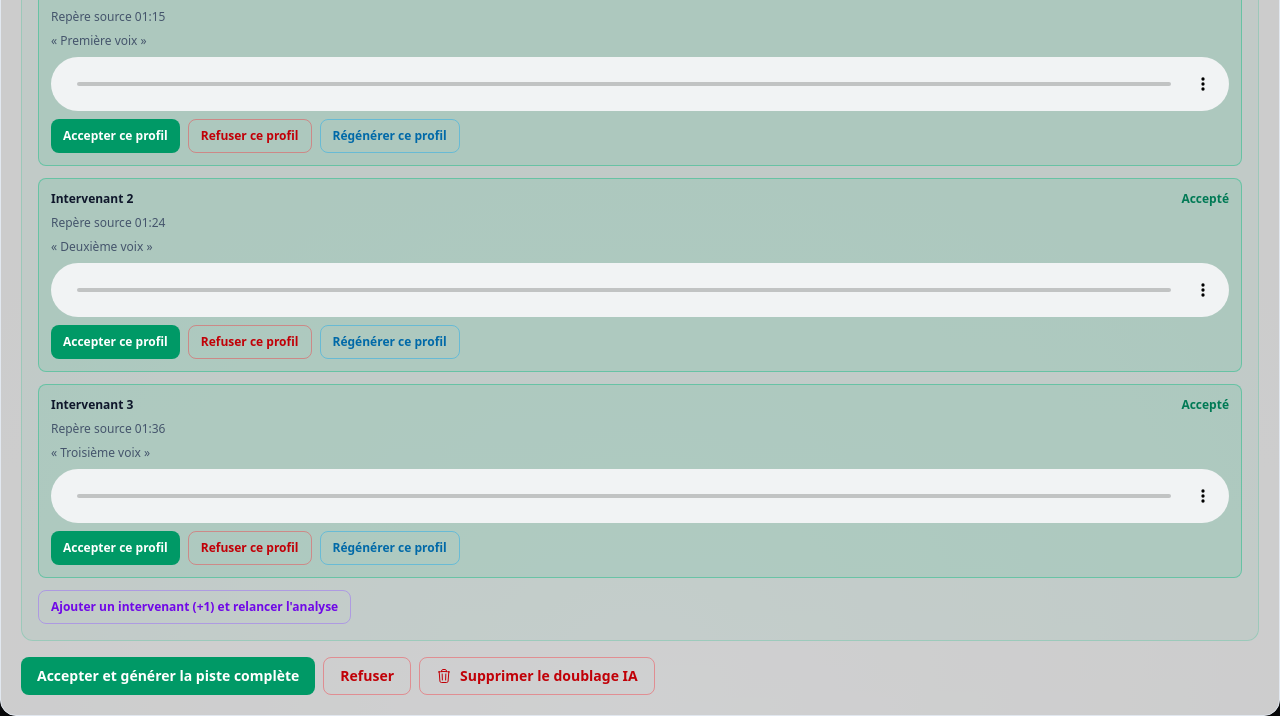
it: demande une confirmation explicite avant de supprimer un doublage IA
The image size is (1280, 716).
(page scrolled)
Click the button "Supprimer le doublage IA". click: (537, 676)
box: [419,657,655,695]
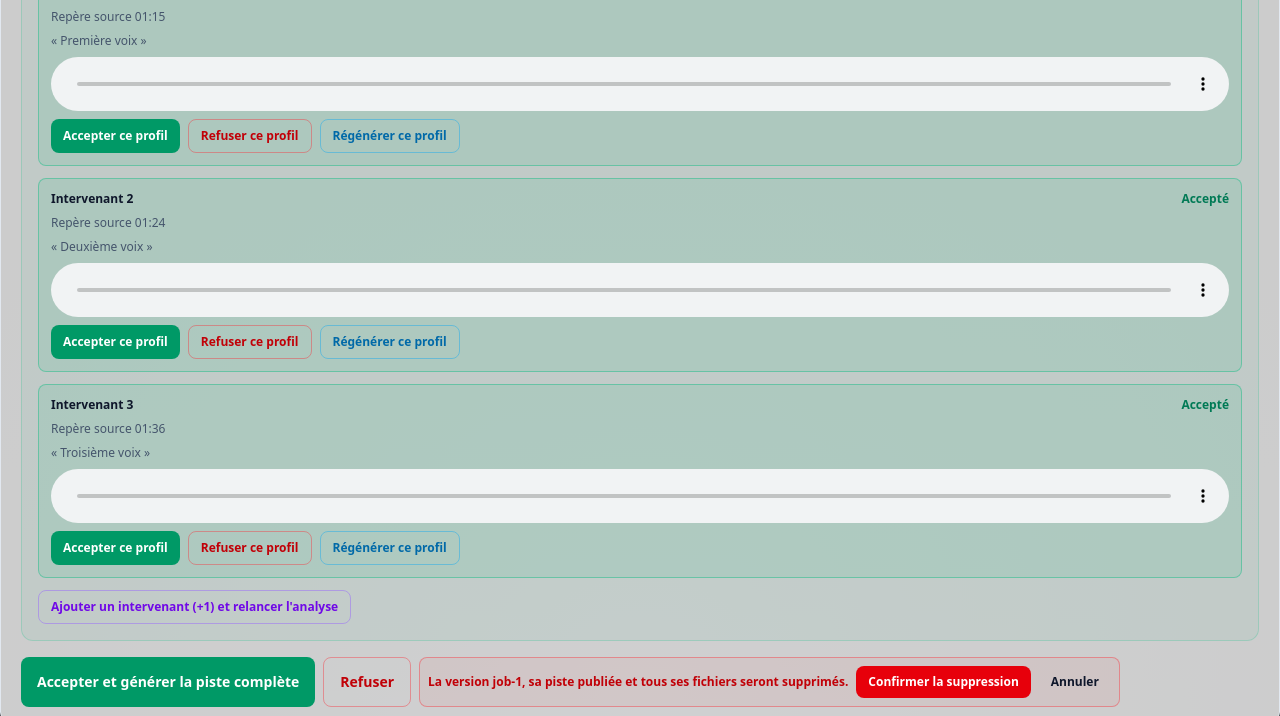
Click the button "Confirmer la suppression". click: (944, 682)
box: [856,666,1031,698]
(page scrolled)
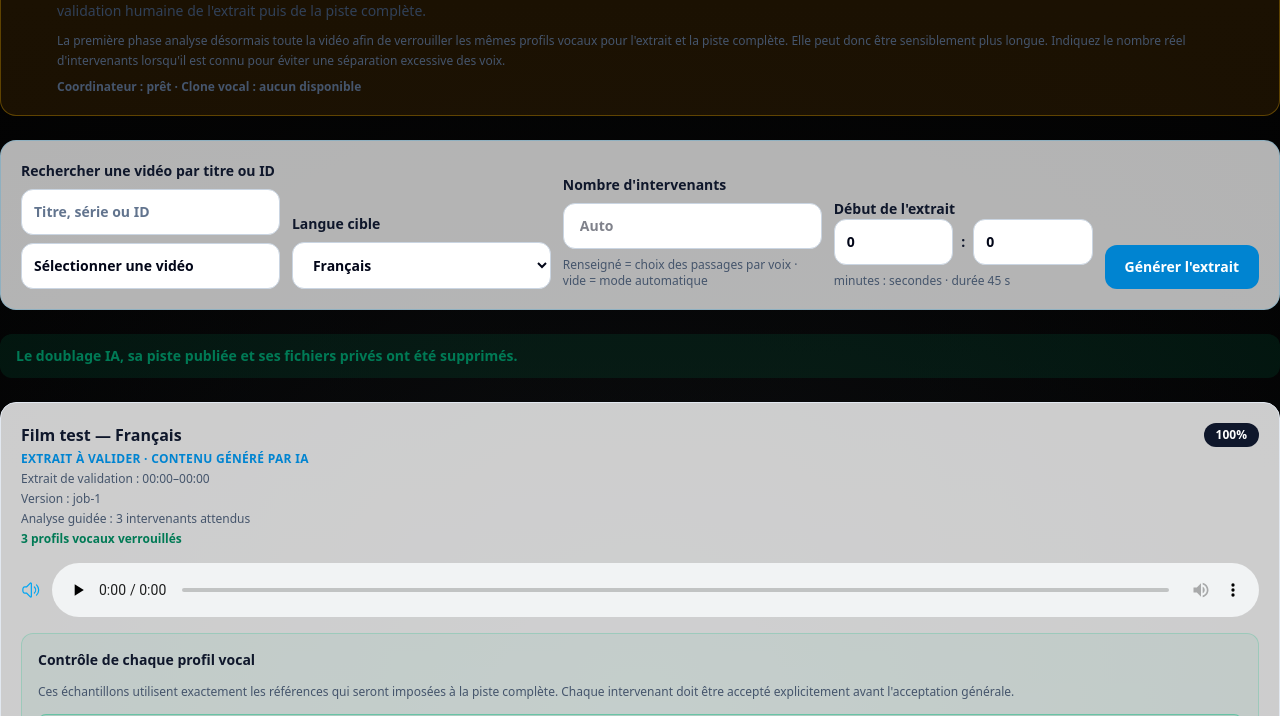
expect the message shows "fichiers privés ont été supprimés": met, box [16,346,518,365]
